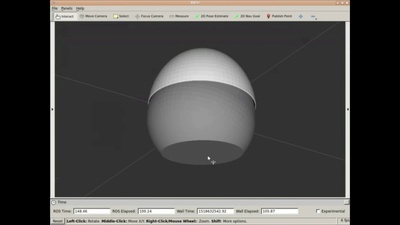mira_robot: (147, 48, 255, 164)
